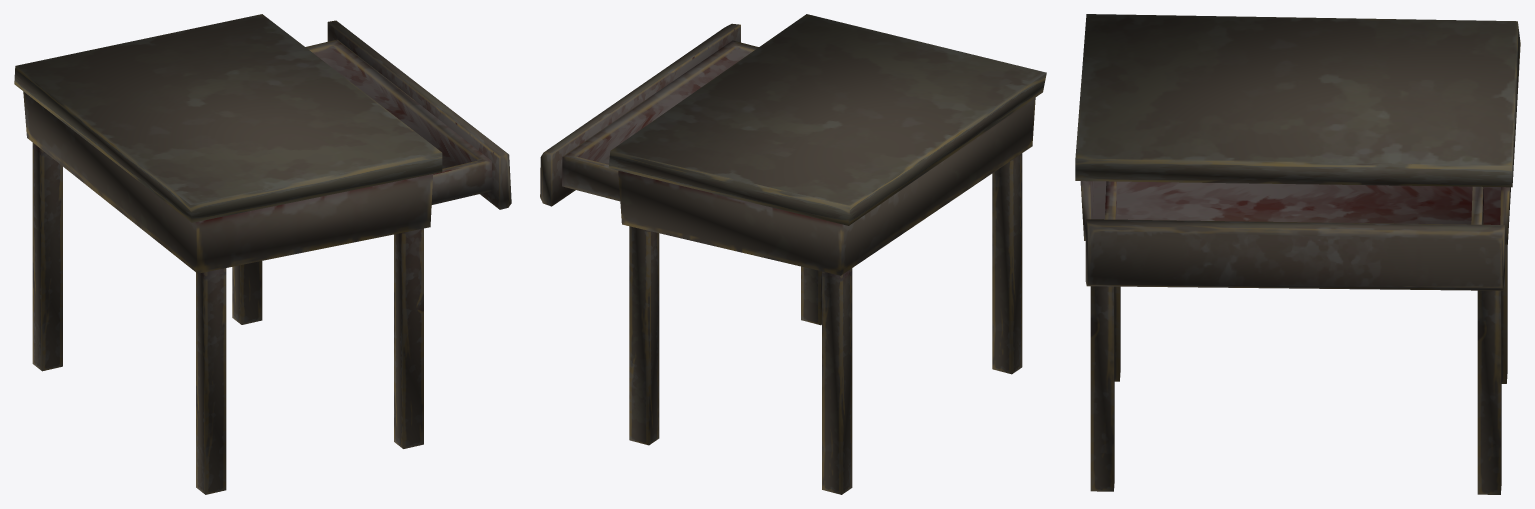
File: desk.fbx
3 renders of one model, left to right at view 1: azimuth 30°, elevation 25°; view 2: azimuth 150°, elevation 25°; view 3: azimuth 270°, elevation 25°, orthographic. The views are drawn at different scales.
Visible parts, largest first — view 1: desk_3_low.003, desk_1_low; view 2: desk_3_low.003, desk_1_low; view 3: desk_3_low.003, desk_1_low.
Boxes of the visible parts, x1,y1,x2,y2 form: desk_3_low.003: (14, 14, 442, 494); desk_1_low: (305, 20, 511, 209); desk_3_low.003: (608, 14, 1046, 494); desk_1_low: (540, 23, 758, 206); desk_3_low.003: (1075, 14, 1520, 494); desk_1_low: (1085, 181, 1504, 290).
Size of the model in its own units: 114 by 98.53 by 115.
